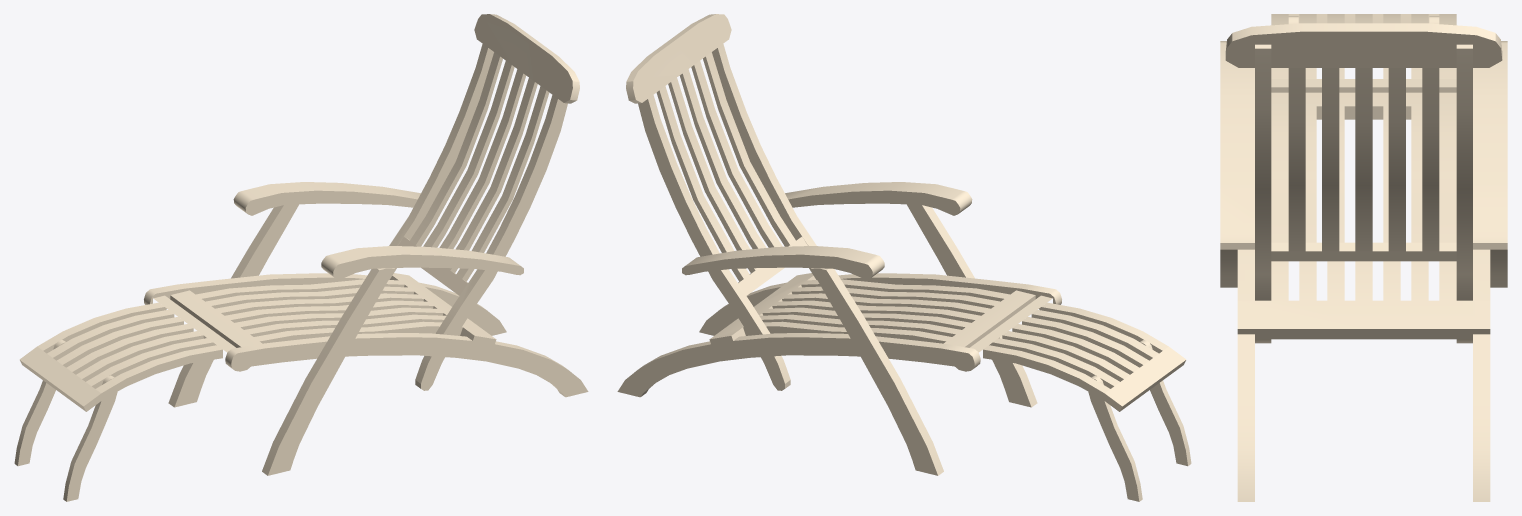
The model's file is GardenLounger.glb.
3 renders of one model, left to right at view 1: azimuth 30°, elevation 25°; view 2: azimuth 150°, elevation 25°; view 3: azimuth 270°, elevation 25°, orthographic. The views are drawn at different scales.
Visible parts, largest first — view 1: Mesh11 Component_5_2 Group1 Model, Mesh7 Group4 Component_5_2 Group1 Model, Mesh1 Group2 Component_5_1 Group1 Model, Mesh5 Component_5_1 Group1 Model, Mesh8 Group5 Component_5_2 Group1 Model, Mesh12 Component_5_2 Group1 Model, Mesh2 Group3 Component_5_1 Group1 Model, Mesh10 Component_5_2 Group1 Model, Mesh4 Component_5_1 Group1 Model, Mesh6 Component_5_1 Group1 Model, Mesh9 Group5 Component_5_2 Group1 Model, Mesh3 Group3 Component_5_1 Group1 Model; view 2: Mesh5 Component_5_1 Group1 Model, Mesh1 Group2 Component_5_1 Group1 Model, Mesh7 Group4 Component_5_2 Group1 Model, Mesh11 Component_5_2 Group1 Model, Mesh2 Group3 Component_5_1 Group1 Model, Mesh6 Component_5_1 Group1 Model, Mesh8 Group5 Component_5_2 Group1 Model, Mesh4 Component_5_1 Group1 Model, Mesh10 Component_5_2 Group1 Model, Mesh12 Component_5_2 Group1 Model, Mesh3 Group3 Component_5_1 Group1 Model, Mesh9 Group5 Component_5_2 Group1 Model; view 3: Mesh1 Group2 Component_5_1 Group1 Model, Mesh7 Group4 Component_5_2 Group1 Model, Mesh5 Component_5_1 Group1 Model, Mesh11 Component_5_2 Group1 Model, Mesh4 Component_5_1 Group1 Model, Mesh10 Component_5_2 Group1 Model, Mesh2 Group3 Component_5_1 Group1 Model, Mesh8 Group5 Component_5_2 Group1 Model, Mesh6 Component_5_1 Group1 Model, Mesh12 Component_5_2 Group1 Model.
Boxes of the visible parts, box(x1,y1,x2,y2) form: Mesh11 Component_5_2 Group1 Model: box(191, 302, 588, 397); Mesh7 Group4 Component_5_2 Group1 Model: box(415, 39, 579, 390); Mesh1 Group2 Component_5_1 Group1 Model: box(389, 14, 535, 279); Mesh5 Component_5_1 Group1 Model: box(144, 273, 506, 335); Mesh8 Group5 Component_5_2 Group1 Model: box(51, 326, 222, 411); Mesh12 Component_5_2 Group1 Model: box(262, 268, 394, 475); Mesh2 Group3 Component_5_1 Group1 Model: box(19, 302, 190, 387); Mesh10 Component_5_2 Group1 Model: box(321, 246, 523, 279); Mesh4 Component_5_1 Group1 Model: box(233, 182, 420, 215); Mesh6 Component_5_1 Group1 Model: box(168, 204, 298, 407); Mesh9 Group5 Component_5_2 Group1 Model: box(63, 375, 117, 501); Mesh3 Group3 Component_5_1 Group1 Model: box(14, 340, 65, 466); Mesh5 Component_5_1 Group1 Model: box(617, 302, 1014, 397); Mesh1 Group2 Component_5_1 Group1 Model: box(626, 39, 790, 390); Mesh7 Group4 Component_5_2 Group1 Model: box(670, 14, 816, 279); Mesh11 Component_5_2 Group1 Model: box(699, 273, 1061, 335); Mesh2 Group3 Component_5_1 Group1 Model: box(983, 326, 1154, 411); Mesh6 Component_5_1 Group1 Model: box(811, 268, 943, 475); Mesh8 Group5 Component_5_2 Group1 Model: box(1015, 302, 1186, 387); Mesh4 Component_5_1 Group1 Model: box(682, 246, 884, 279); Mesh10 Component_5_2 Group1 Model: box(785, 182, 972, 215); Mesh12 Component_5_2 Group1 Model: box(907, 204, 1037, 407); Mesh3 Group3 Component_5_1 Group1 Model: box(1088, 375, 1142, 501); Mesh9 Group5 Component_5_2 Group1 Model: box(1140, 340, 1191, 466); Mesh1 Group2 Component_5_1 Group1 Model: box(1364, 23, 1502, 343); Mesh7 Group4 Component_5_2 Group1 Model: box(1225, 23, 1363, 343); Mesh5 Component_5_1 Group1 Model: box(1364, 79, 1490, 501); Mesh11 Component_5_2 Group1 Model: box(1237, 79, 1363, 501); Mesh4 Component_5_1 Group1 Model: box(1473, 41, 1507, 249); Mesh10 Component_5_2 Group1 Model: box(1220, 41, 1254, 249); Mesh2 Group3 Component_5_1 Group1 Model: box(1364, 14, 1456, 78); Mesh8 Group5 Component_5_2 Group1 Model: box(1271, 14, 1363, 78); Mesh6 Component_5_1 Group1 Model: box(1490, 249, 1507, 287); Mesh12 Component_5_2 Group1 Model: box(1220, 249, 1237, 287).
Size of the model in its own units: 66.98 by 41.14 by 22.87.
